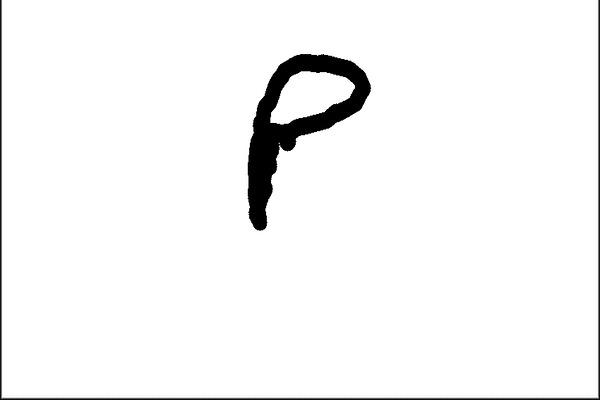P: (223, 42, 377, 236)
